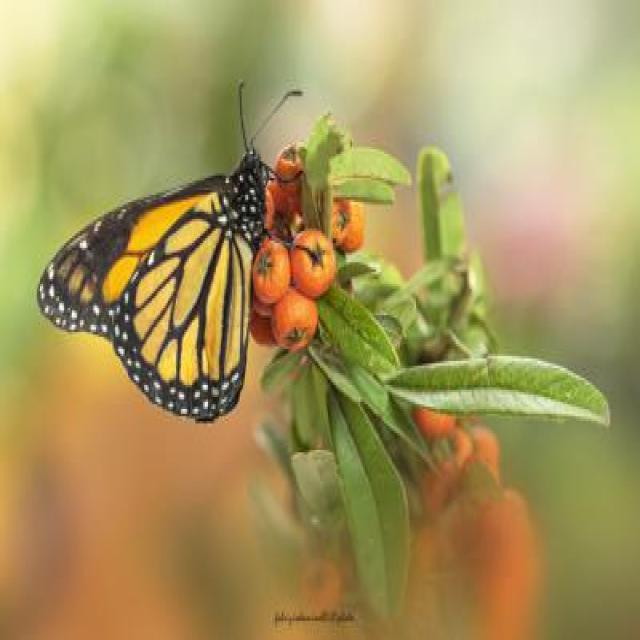antennae: (235, 79, 307, 162)
body: (224, 146, 272, 256)
insect: (37, 75, 322, 423)
legs: (259, 155, 321, 277)
wings: (38, 170, 252, 423)
